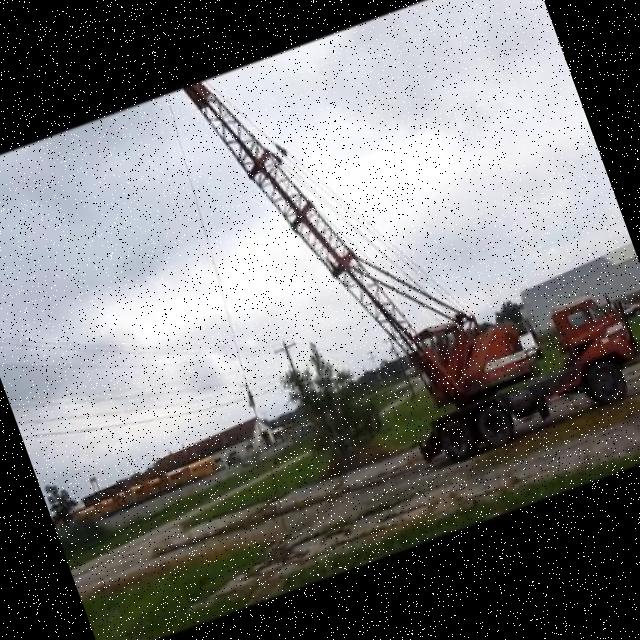Mobile Crane: (180, 0, 640, 506)
